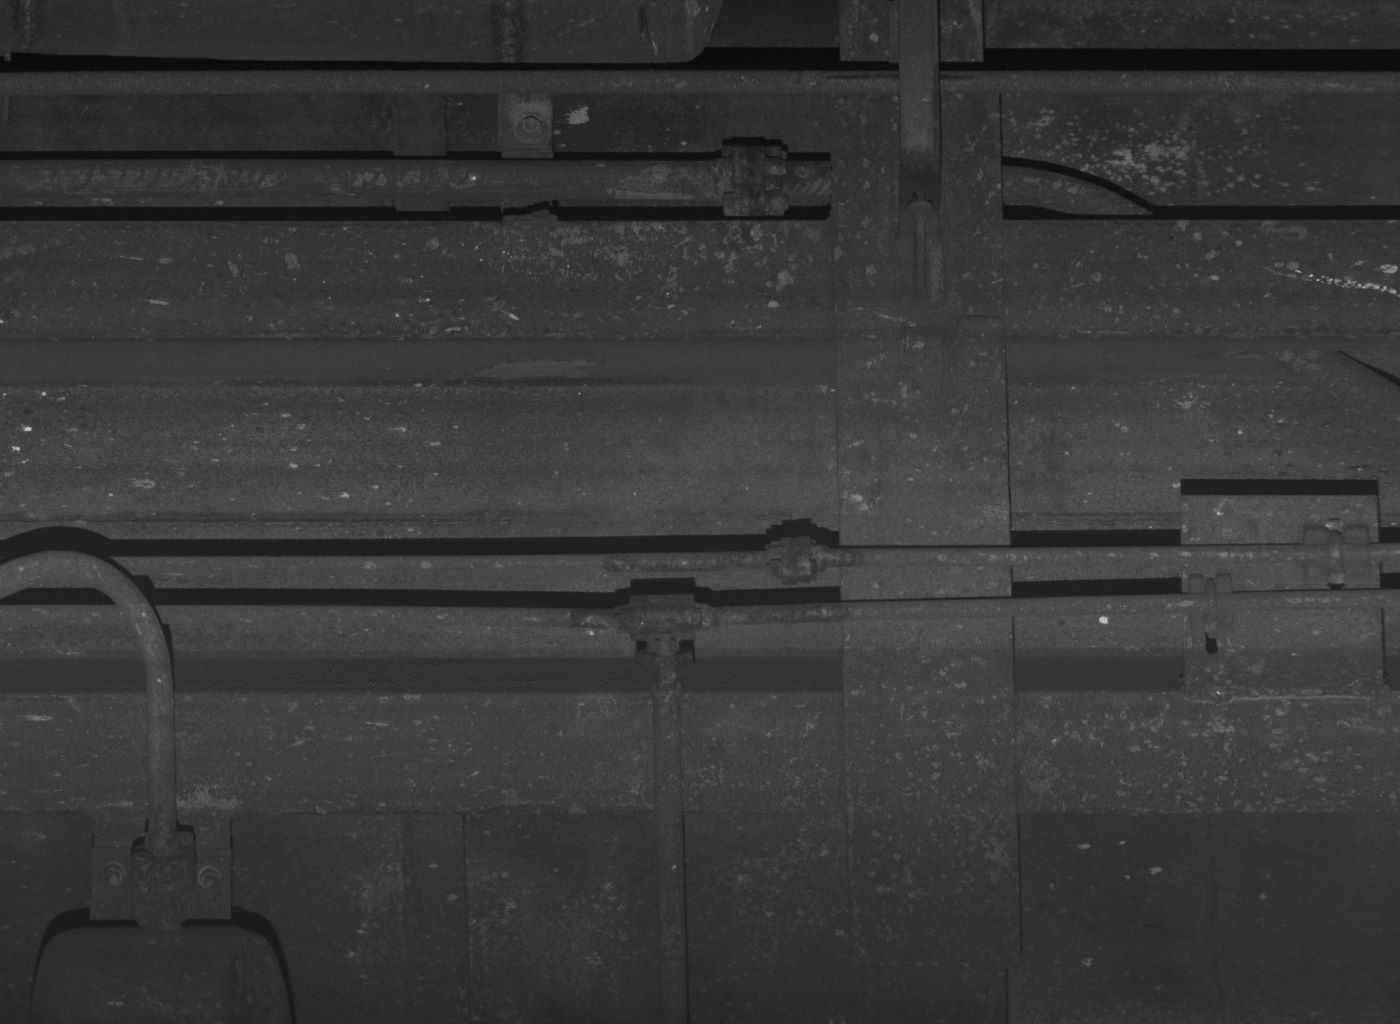normal: (896, 1, 941, 296)
